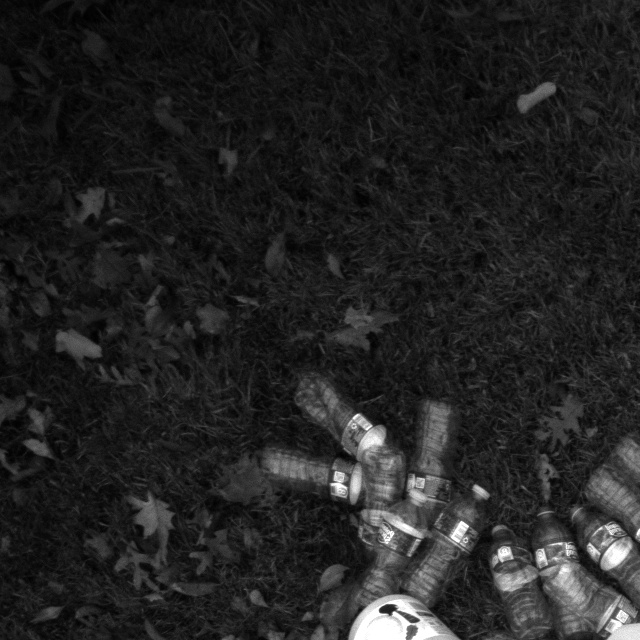bottle: (291, 368, 403, 473), (400, 484, 494, 608), (344, 489, 428, 618), (543, 551, 640, 640), (400, 396, 463, 530), (566, 500, 640, 613), (533, 505, 592, 640), (260, 443, 380, 508), (488, 522, 551, 640), (581, 462, 640, 570), (355, 445, 407, 559)
